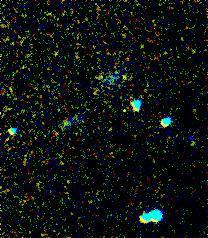star: (108, 97, 138, 127)
